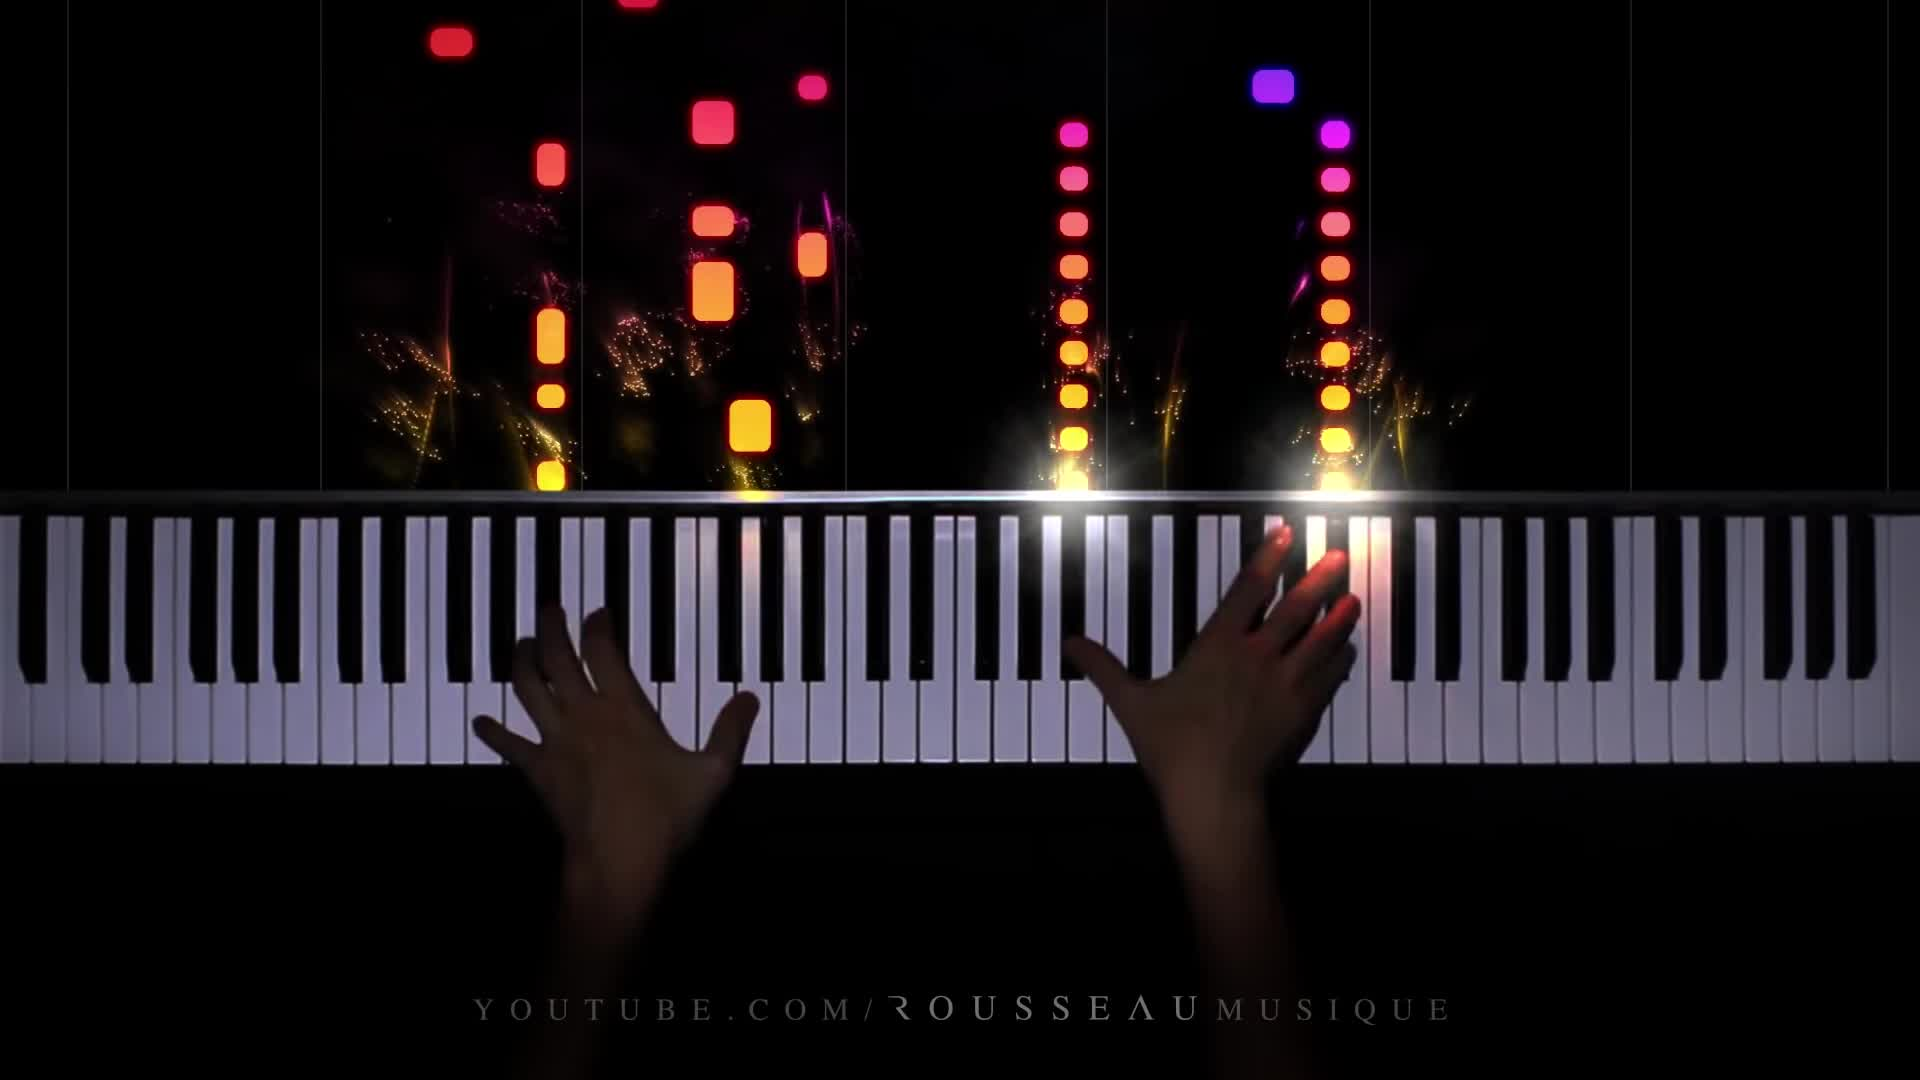left: (472, 599, 761, 865)
right: (1062, 525, 1361, 799)
